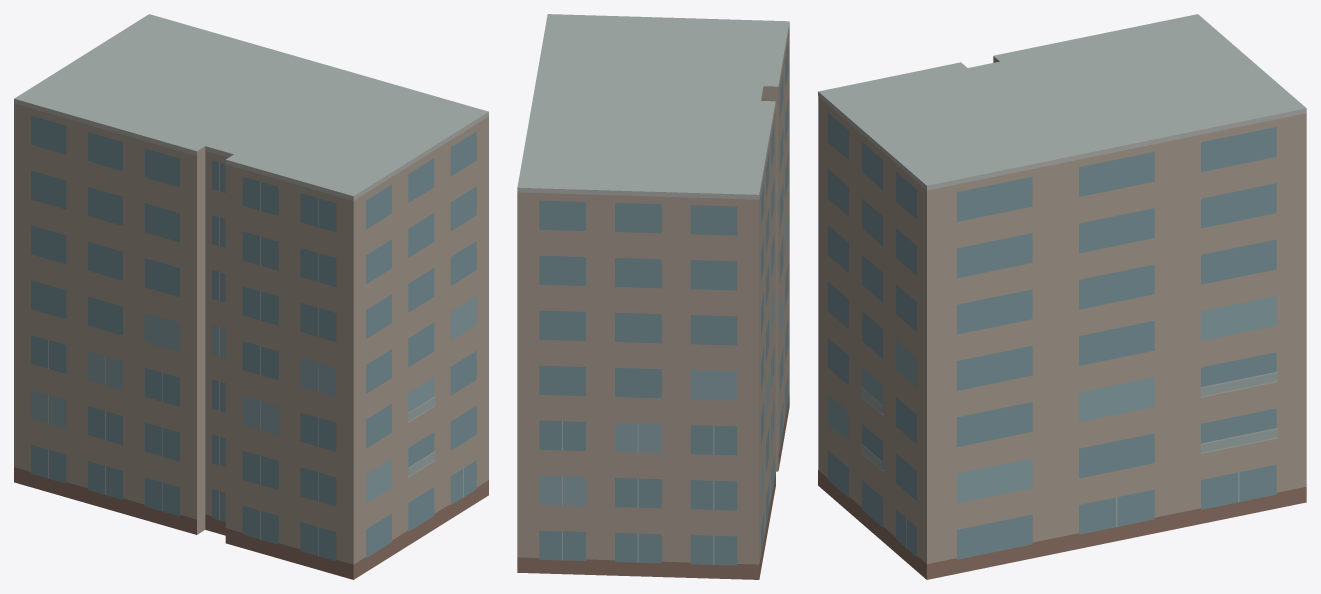
File: survey-upis-32741815.glb
3 renders of one model, left to right at view 1: azimuth 30°, elevation 25°; view 2: azimuth 150°, elevation 25°; view 3: azimuth 270°, elevation 25°, orthographic. The views are drawn at different scales.
Parts seen in each view (by area): view 1: survey-upis-32741815.tmp; view 2: survey-upis-32741815.tmp; view 3: survey-upis-32741815.tmp.
Boxes of the visible parts, x1,y1,x2,y2 form: survey-upis-32741815.tmp: (14,14,488,579); survey-upis-32741815.tmp: (517,14,789,579); survey-upis-32741815.tmp: (818,14,1306,579).
Size of the model in its own units: 18.66 by 19.95 by 22.42.
